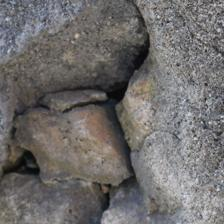Crack: (53, 2, 104, 181)
